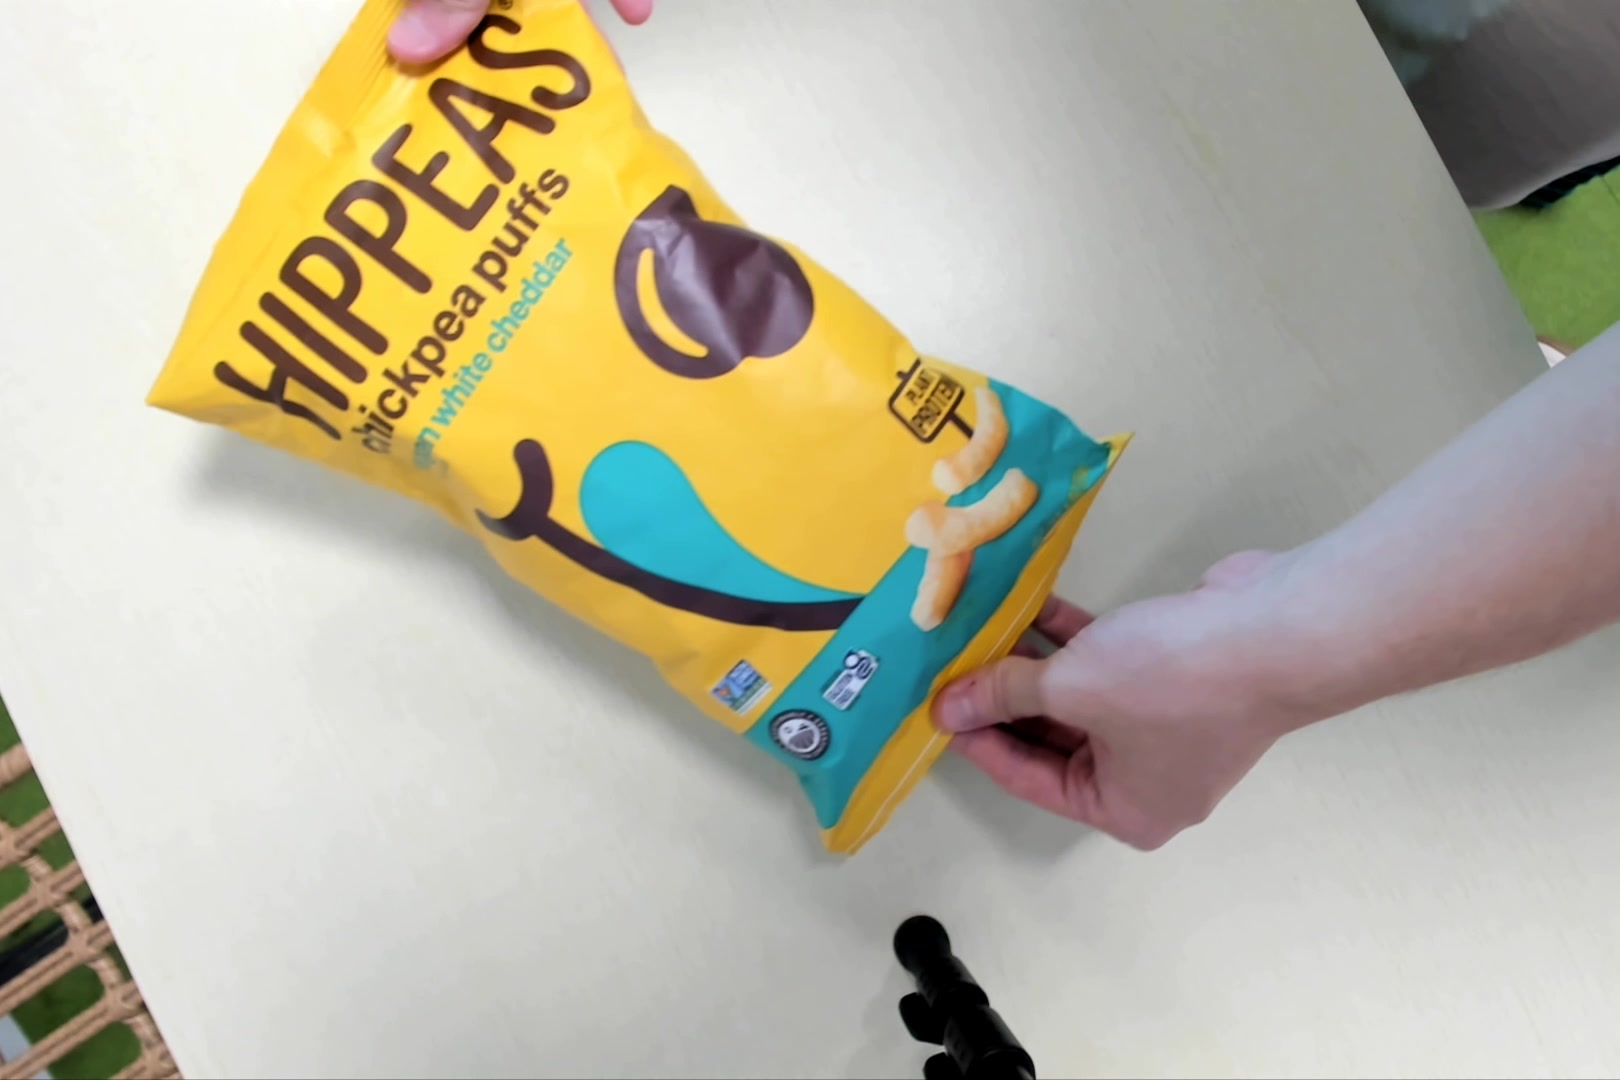PotatoChipsKeropok_100-199g_NonHalal_NonHealthy: (157, 6, 1113, 849)
